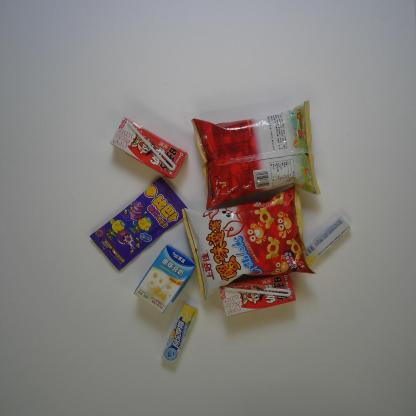Candy: (88, 177, 188, 272), (296, 212, 353, 268), (160, 303, 198, 365)
Milk: (110, 117, 189, 180), (132, 243, 198, 316), (216, 269, 298, 320)
Puffed Food: (179, 182, 318, 301), (190, 97, 322, 213)
